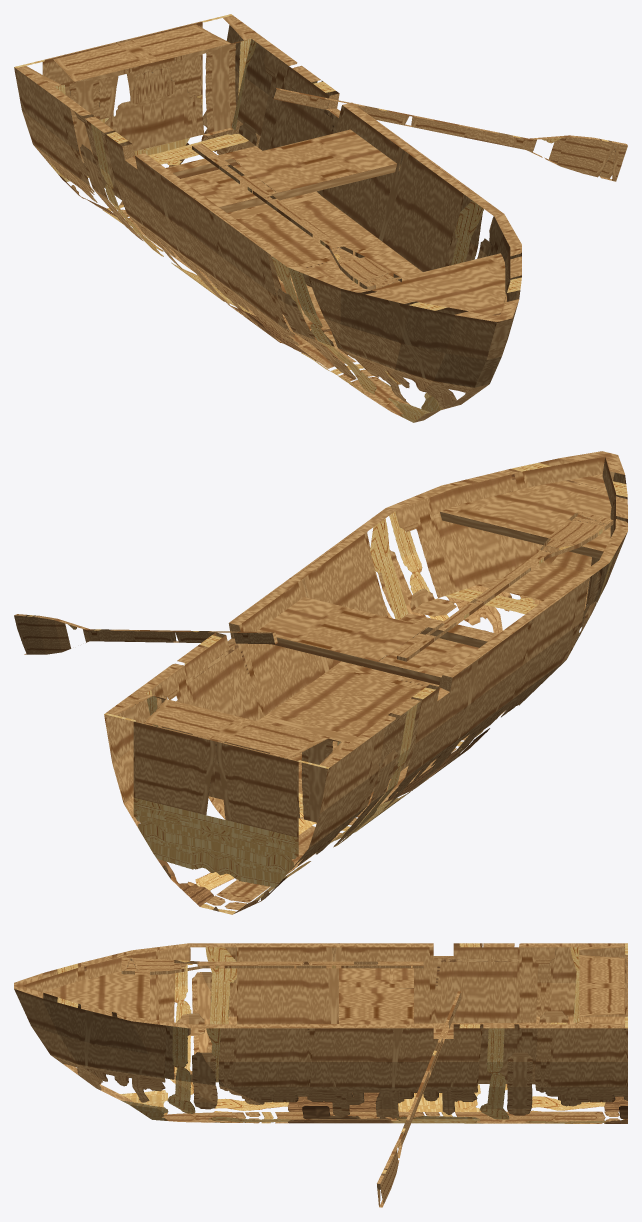
The model's file is boat.fbx.
3 renders of one model, top to bottom at view 1: azimuth 30°, elevation 25°; view 2: azimuth 150°, elevation 25°; view 3: azimuth 270°, elevation 25°, orthographic. The views are drawn at different scales.
Visible parts, largest first — view 1: Boat; view 2: Boat; view 3: Boat.
Part boxes in pixels (x1=…): Boat: x1=14, y1=14, x2=627, y2=422; Boat: x1=14, y1=451, x2=627, y2=914; Boat: x1=14, y1=943, x2=627, y2=1207.
Bounding box in the file's own units: 288 × 109 × 416.
